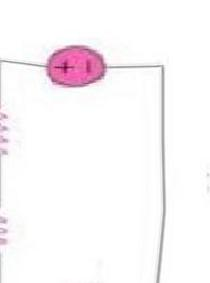Battery: (37, 36, 114, 96)
